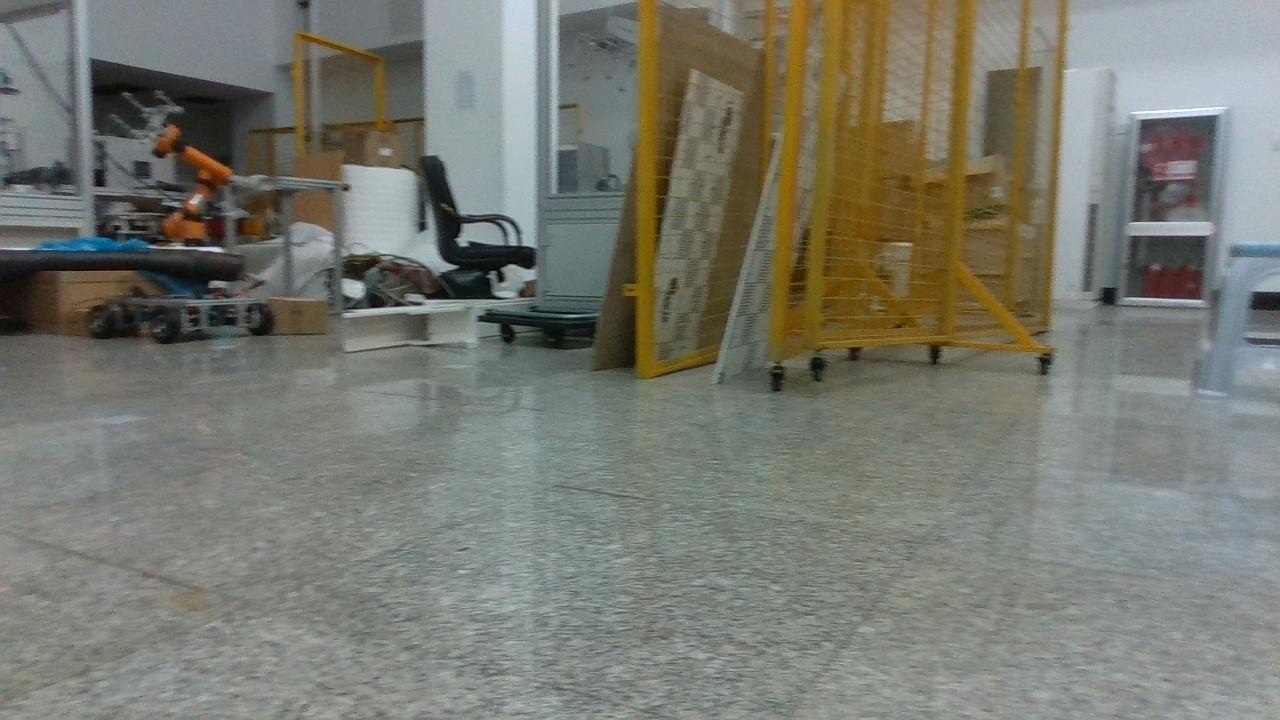stool: (1198, 243, 1280, 395)
